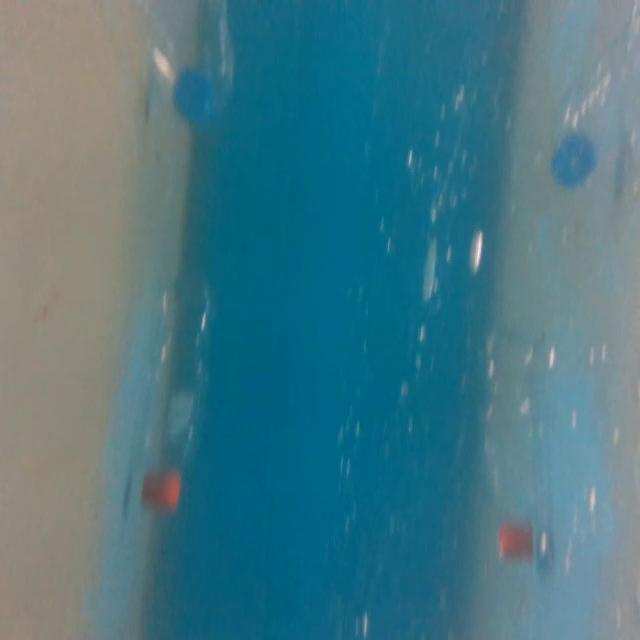plastic bottle: (137, 273, 219, 515), (134, 0, 248, 131)
